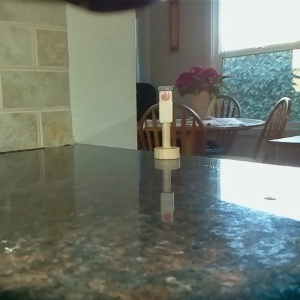traffic light red: (153, 84, 180, 160)
